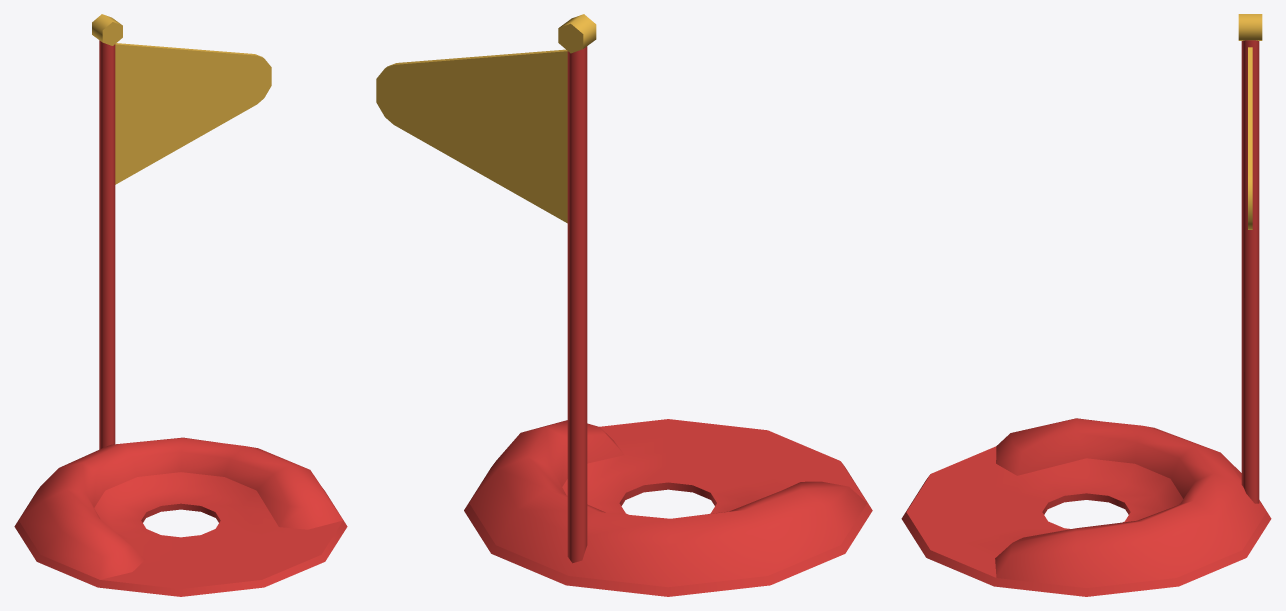
Rendered from GolfHole_01.fbx.
3 views of the same model, side by side, from view 1: azimuth 30°, elevation 25°; view 2: azimuth 150°, elevation 25°; view 3: azimuth 270°, elevation 25° (orthographic). The views are drawn at different scales.
Parts seen in each view (by area): view 1: GolfHole_01; view 2: GolfHole_01; view 3: GolfHole_01.
Part boxes in pixels (x1,y1,x2,y2): GolfHole_01: (14, 14, 347, 596); GolfHole_01: (376, 14, 872, 596); GolfHole_01: (901, 14, 1271, 596).
Bounding box in the file's own units: 0.2255 × 0.3186 × 0.2116.
